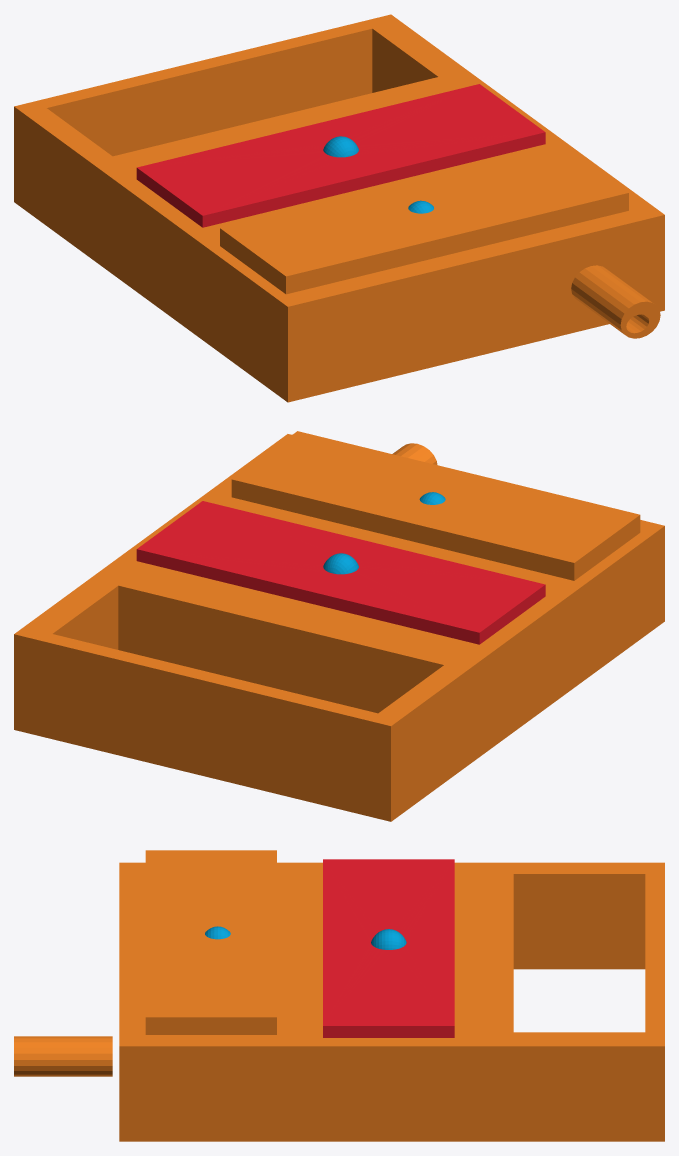
File: tinker.obj
3 renders of one model, top to bottom at view 1: azimuth 30°, elevation 25°; view 2: azimuth 150°, elevation 25°; view 3: azimuth 270°, elevation 25°, orthographic.
Visible parts, largest first — view 1: group_0_16089887, group_0_15277357, group_0_40919; view 2: group_0_16089887, group_0_15277357, group_0_40919; view 3: group_0_16089887, group_0_15277357, group_0_40919.
Part boxes in pixels (x1,y1,x2,y2): group_0_16089887: (14,14,664,402); group_0_15277357: (136,84,545,227); group_0_40919: (323,136,433,213); group_0_16089887: (14,431,664,821); group_0_15277357: (136,501,545,644); group_0_40919: (323,492,445,574); group_0_16089887: (14,850,664,1141); group_0_15277357: (323,859,454,1037); group_0_40919: (205,926,406,949).
Size of the model in its own units: 66 by 20 by 99.
